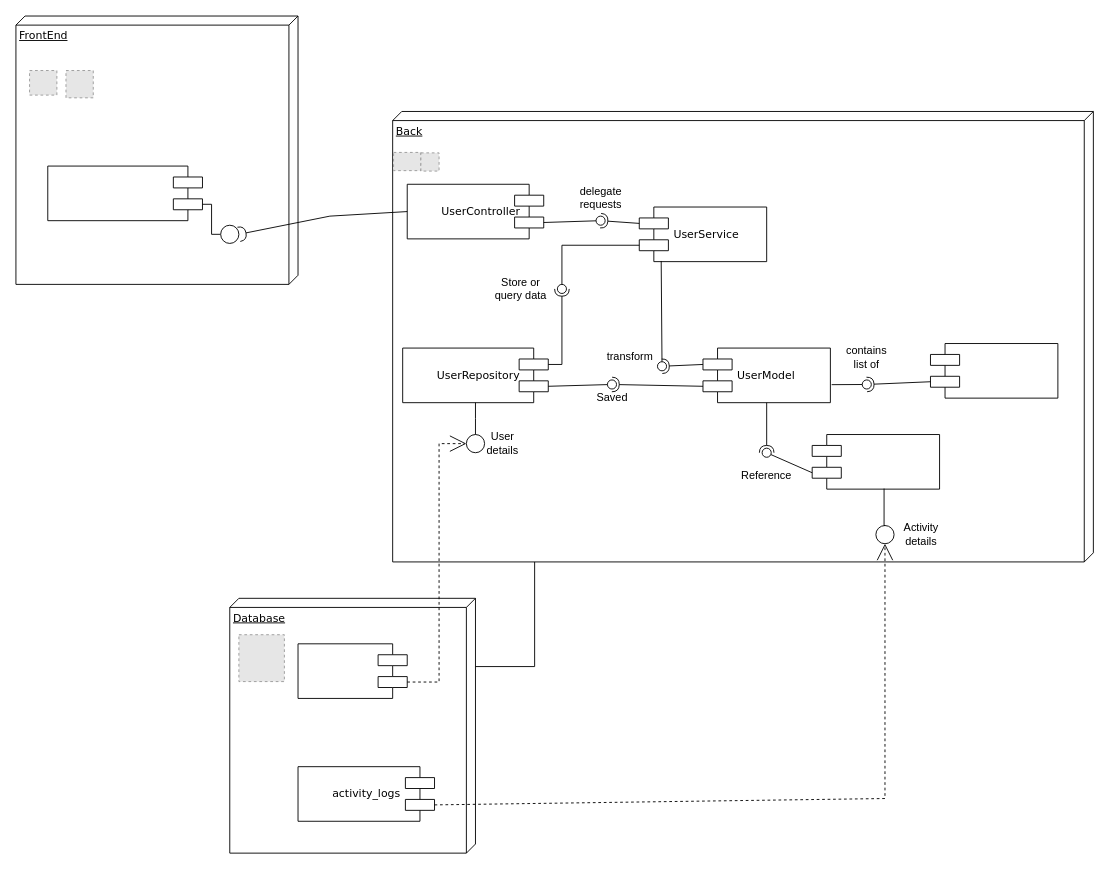
This 1109x869 diagram has some shape labels left out. Grey dashed boxes stand in for pictures. The shapes that lost their labels are listed below. From the top down, each one's centre as x and y in pixels, then its label:
the point at 124,193: Authentification
the point at 994,370: Role "Enum"
the point at 875,461: ActivityLog
the point at 352,670: Users
